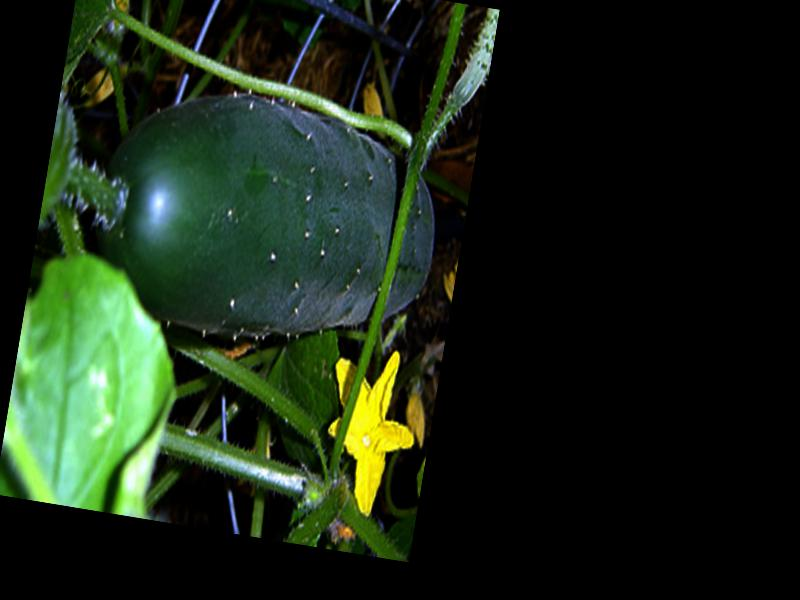Cucumber: (76, 74, 450, 366)
